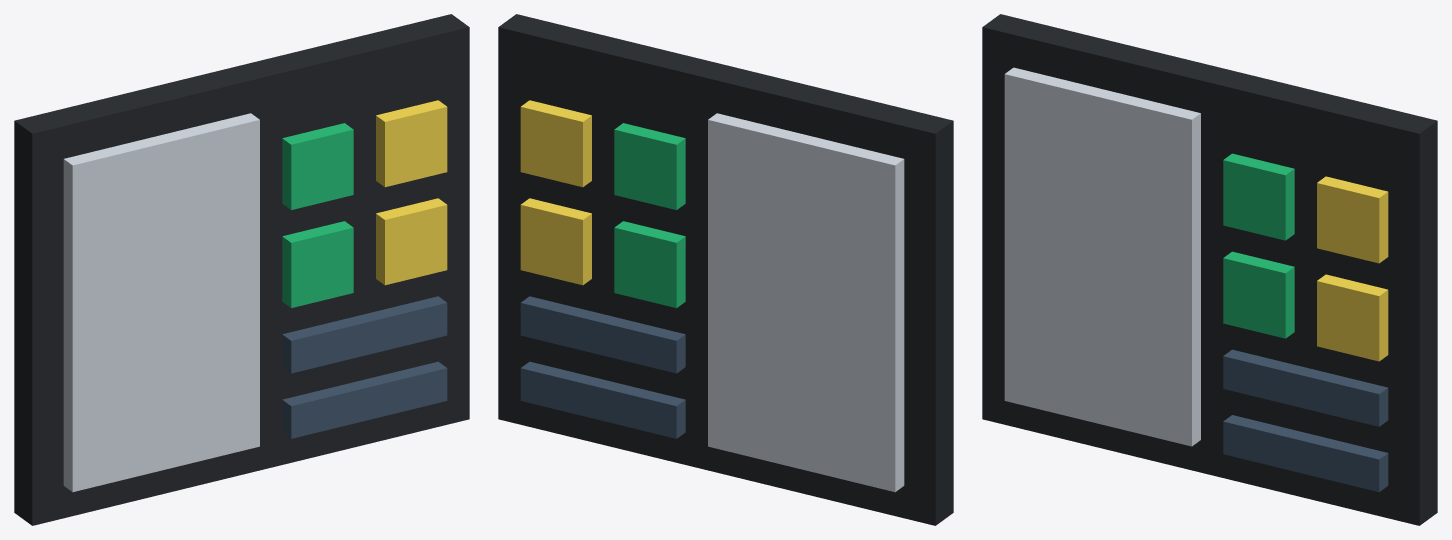
The model's file is Control Panel 1.glb.
3 renders of one model, left to right at view 1: azimuth 30°, elevation 25°; view 2: azimuth 150°, elevation 25°; view 3: azimuth 330°, elevation 25°, orthographic.
Visible parts, largest first — view 1: generated(Clone); view 2: generated(Clone); view 3: generated(Clone).
Part boxes in pixels (x1,y1,x2,y2): generated(Clone): [14, 14, 469, 525]; generated(Clone): [498, 14, 953, 525]; generated(Clone): [982, 14, 1437, 525].
Size of the model in its own units: 14 by 12 by 2.
1 material, 1 textured.
